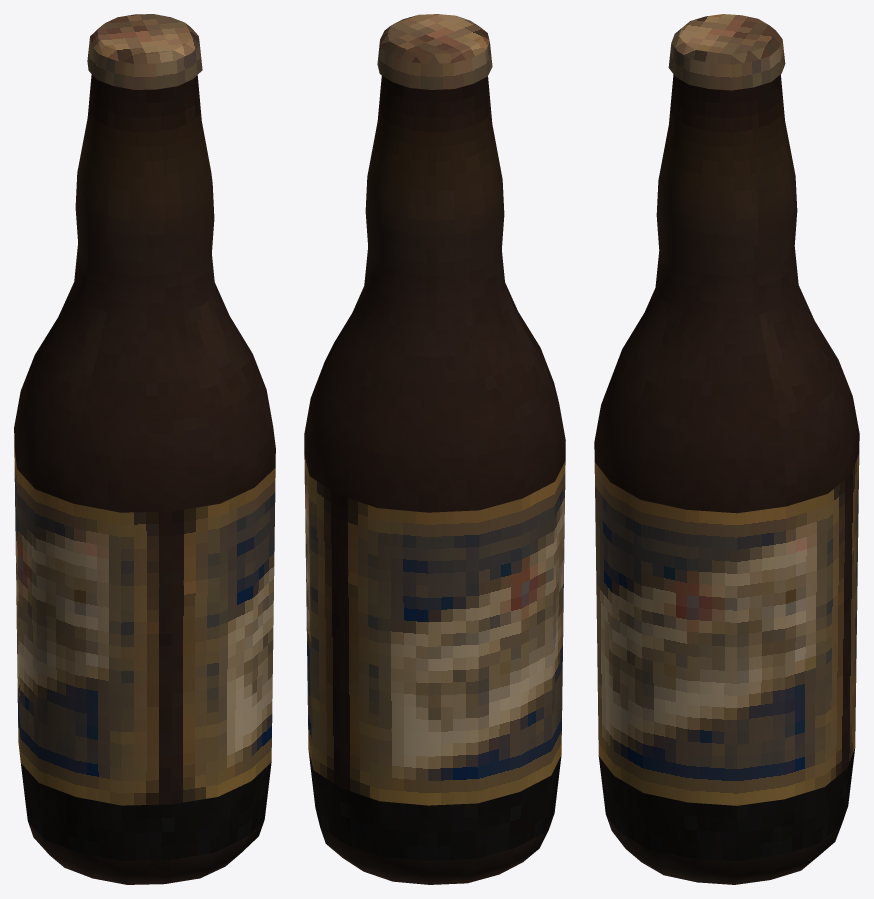
File: glass_bottle_1.glb
The picture shows the model from 3 angles, left to right: view 1: azimuth 30°, elevation 25°; view 2: azimuth 150°, elevation 25°; view 3: azimuth 270°, elevation 25°; orthographic projection.
Visible parts, largest first — view 1: glass_bottle_1; view 2: glass_bottle_1; view 3: glass_bottle_1.
Part boxes in pixels (x1,y1,x2,y2): glass_bottle_1: (14,14,275,884); glass_bottle_1: (304,14,565,884); glass_bottle_1: (594,14,859,884).
Bounding box in the file's own units: 0.1167 × 0.3931 × 0.1167.
Materials: 1 (1 with a texture image).
